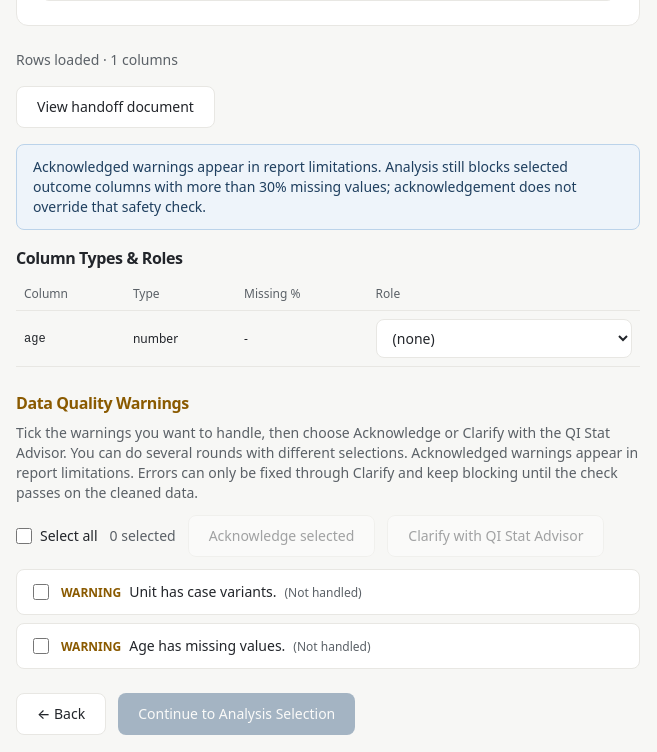
DataReview › the advisor speaks first with "start", then shows the read-back with dry-run counts and applies nothing
(page scrolled)
Click the checkbox labelled "Unit has case variants".
click(41, 592)  # box [33,584,49,600]
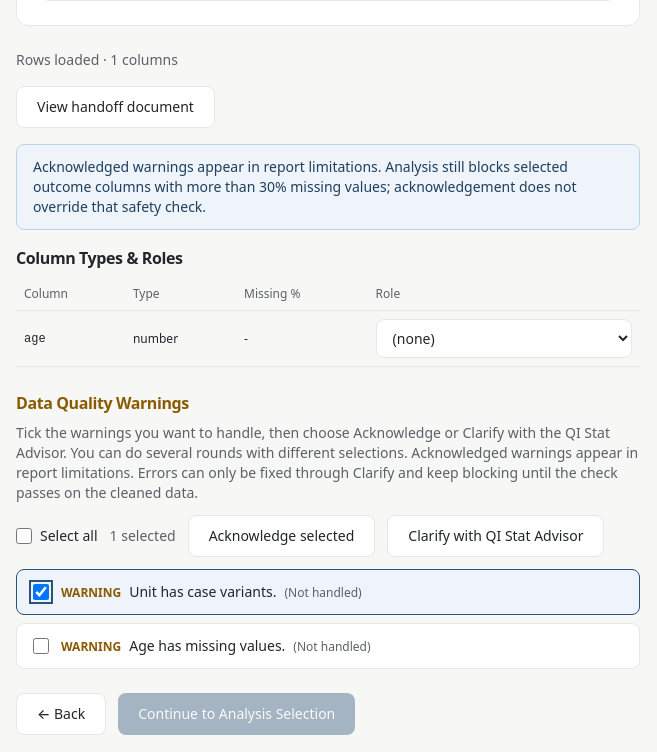
Click the button "Clarify with QI Stat Advisor".
click(496, 536)  # box [387,515,604,557]
(page scrolled)
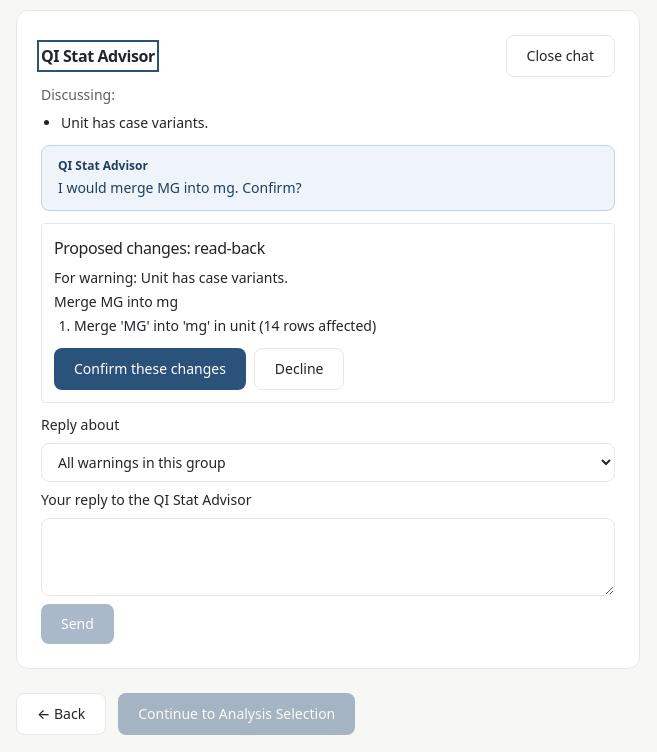
Expected: the text "I would merge MG into mg. Confirm?" is shown, [58,178,302,197]
Expected: the text "For warning: Unit has case variants." is shown, [54,268,288,287]
Expected: the list item "Merge 'MG' into 'mg' in unit (14 rows affected)" is shown, [74,316,376,335]
